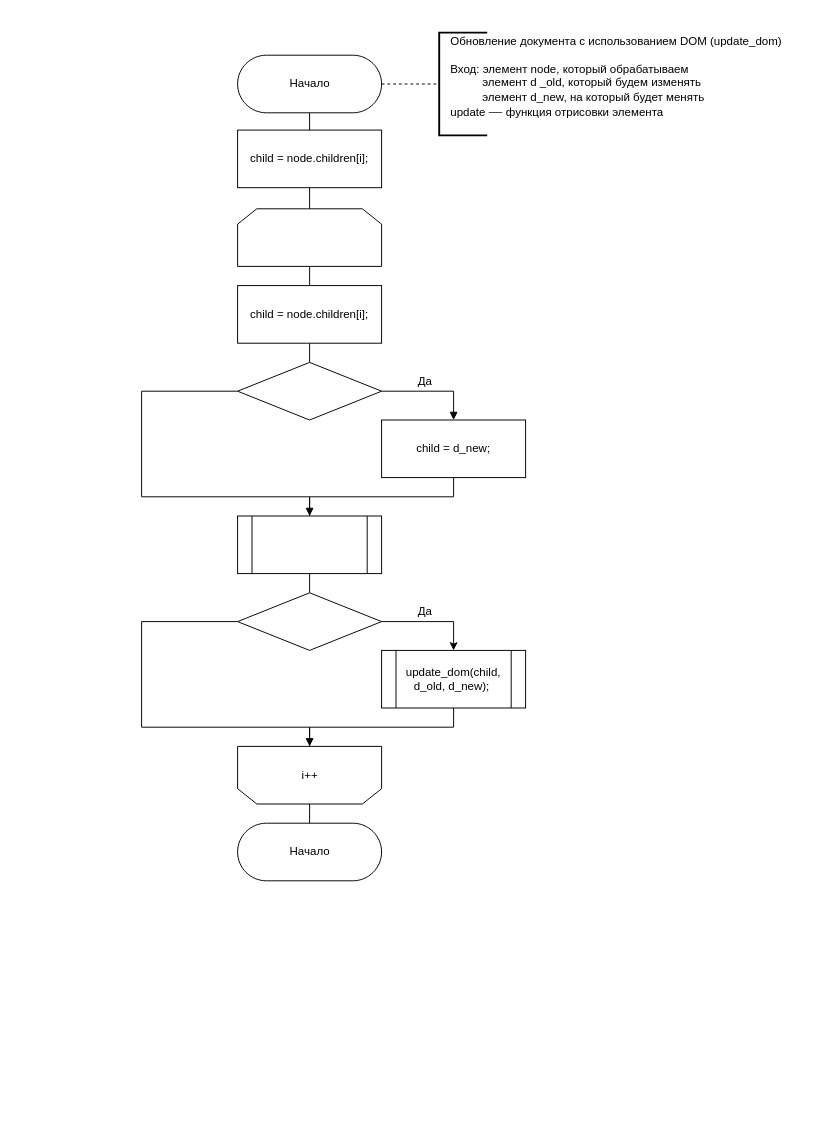
Image size: 820x1146. Some labels were removed from this diagram. The shapes that lost their labels are listed below. From the top down, each one's centre as x and y in pixels, then its label:
At (309,237): "Пока i < node.children.length".
At (309,390): "child == d_old".
At (309,544): "update(child);".
At (309,621): "!child.children.isEmpty".
